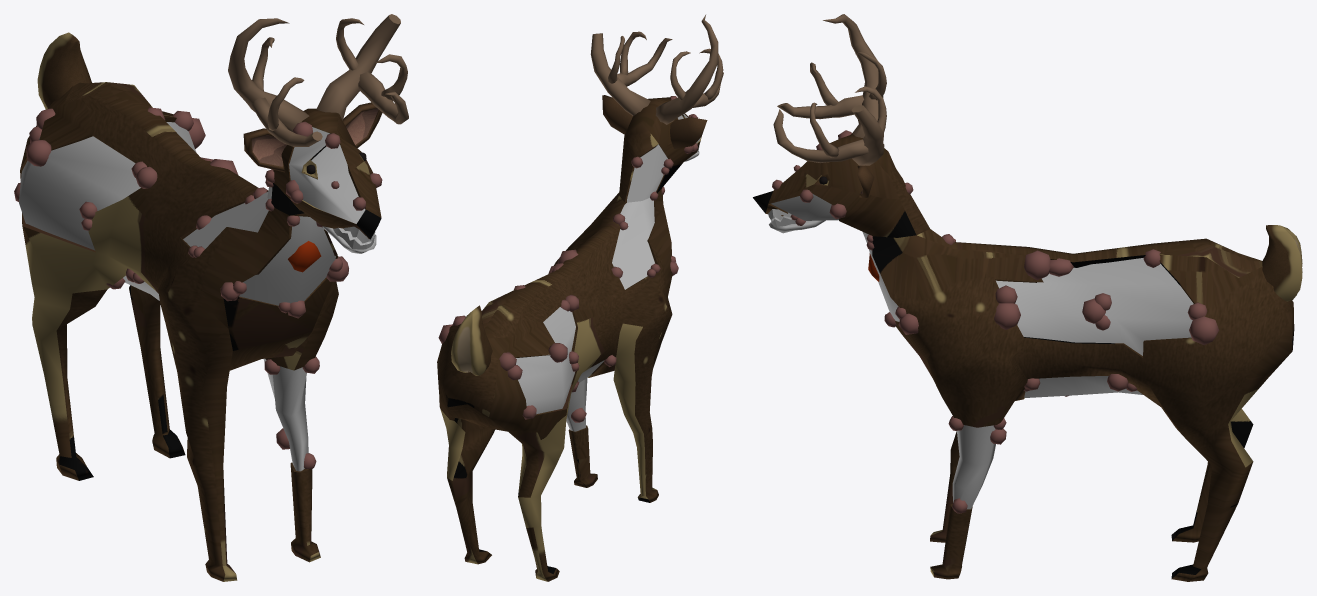
Rendered from Monster_Deer.fbx.
The picture shows the model from 3 angles, left to right: view 1: azimuth 30°, elevation 25°; view 2: azimuth 150°, elevation 25°; view 3: azimuth 270°, elevation 25°; orthographic projection. The views are drawn at different scales.
Visible parts, largest first — view 1: polySurface170, polySurface171; view 2: polySurface170; view 3: polySurface170.
Part boxes in pixels (box(x1,y1,x2,y2)): polySurface170: box(14, 14, 408, 581); polySurface171: box(322, 226, 376, 253); polySurface170: box(437, 15, 723, 581); polySurface170: box(753, 14, 1302, 581).
Size of the model in its own units: 64.52 by 212 by 205.
